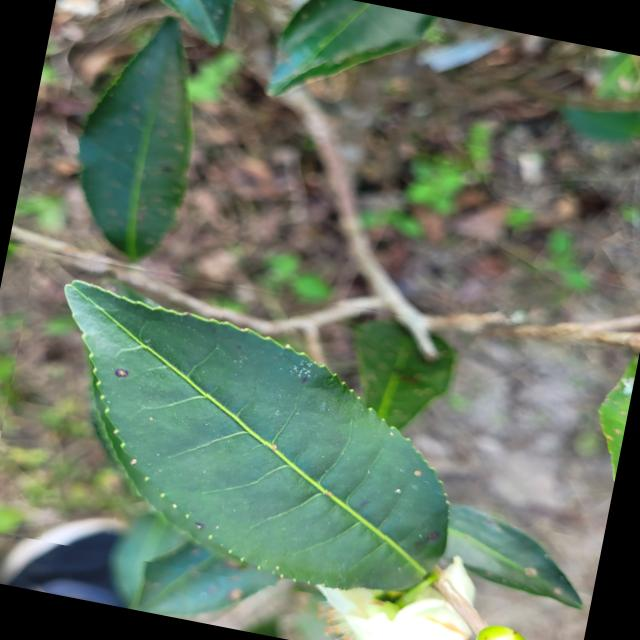Category D(7+ days, Not for Tea): (0, 243, 527, 624)
